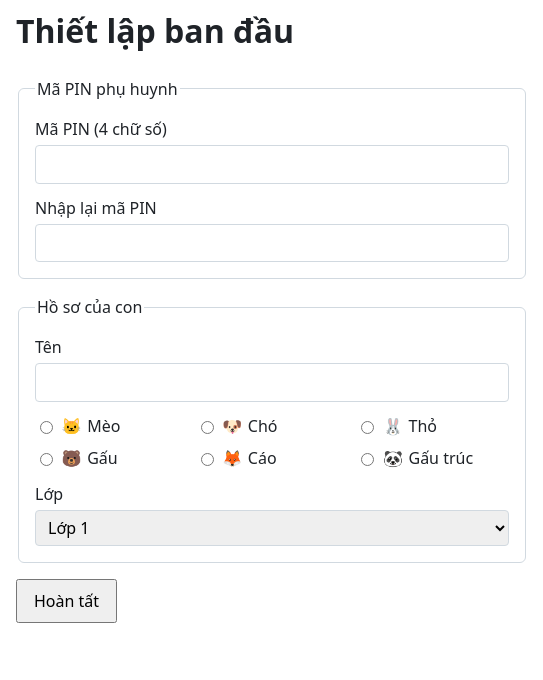
Test case: Setup › rejects a PIN that is not 4 digits
The image size is (543, 680).
Type "12" into the password field labelled "Mã PIN (4 chữ số)" at (272, 164), box [35, 145, 509, 184]
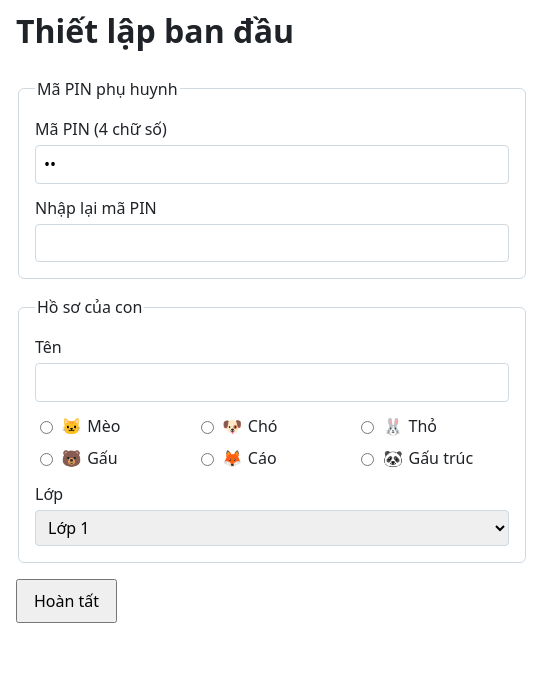
Type "12" into the password field labelled "Nhập lại mã PIN" at (272, 243), box [35, 224, 509, 262]
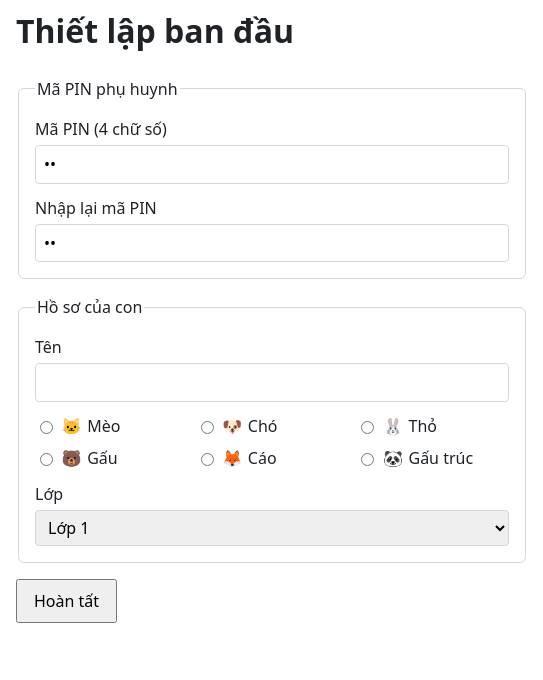
Type "Bin" into the field labelled "Tên" at (272, 383), box [35, 363, 509, 402]
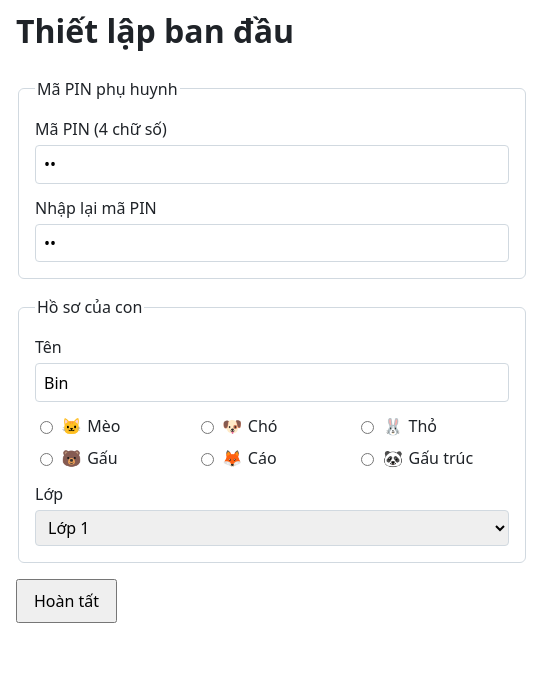
Click the radio button labelled "🐱 Mèo" at (46, 428), box [40, 421, 53, 434]
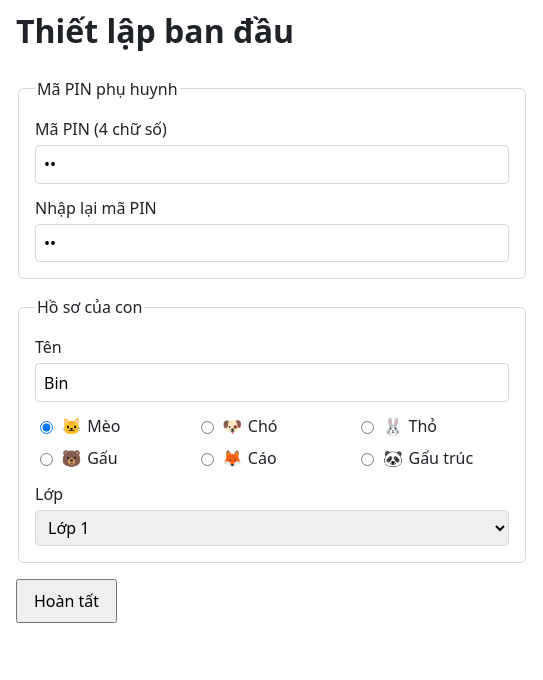
Select "Lớp 2" in the dropdown labelled "Lớp" at (272, 528), box [35, 510, 509, 546]
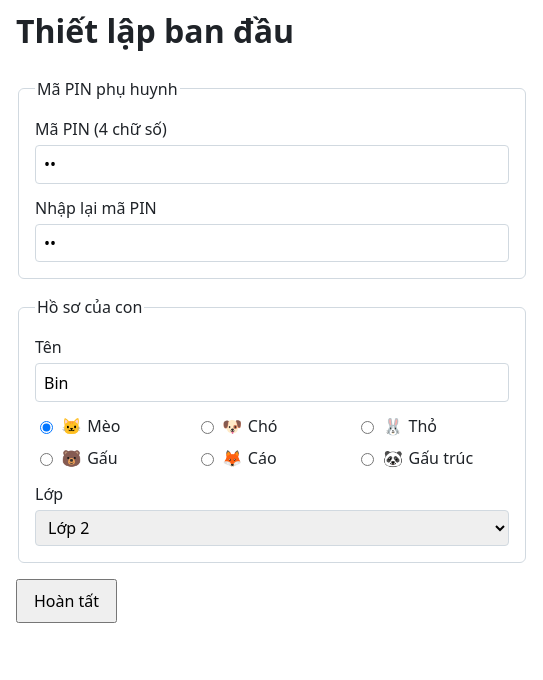
Click the button "Hoàn tất" at (67, 601), box [16, 579, 117, 623]
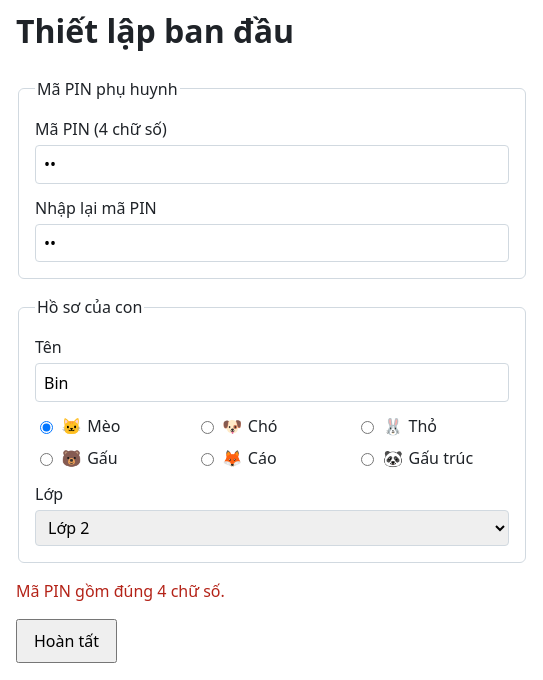
Check: the message reads "Mã PIN gồm đúng 4 chữ số.", box [16, 580, 225, 602]
